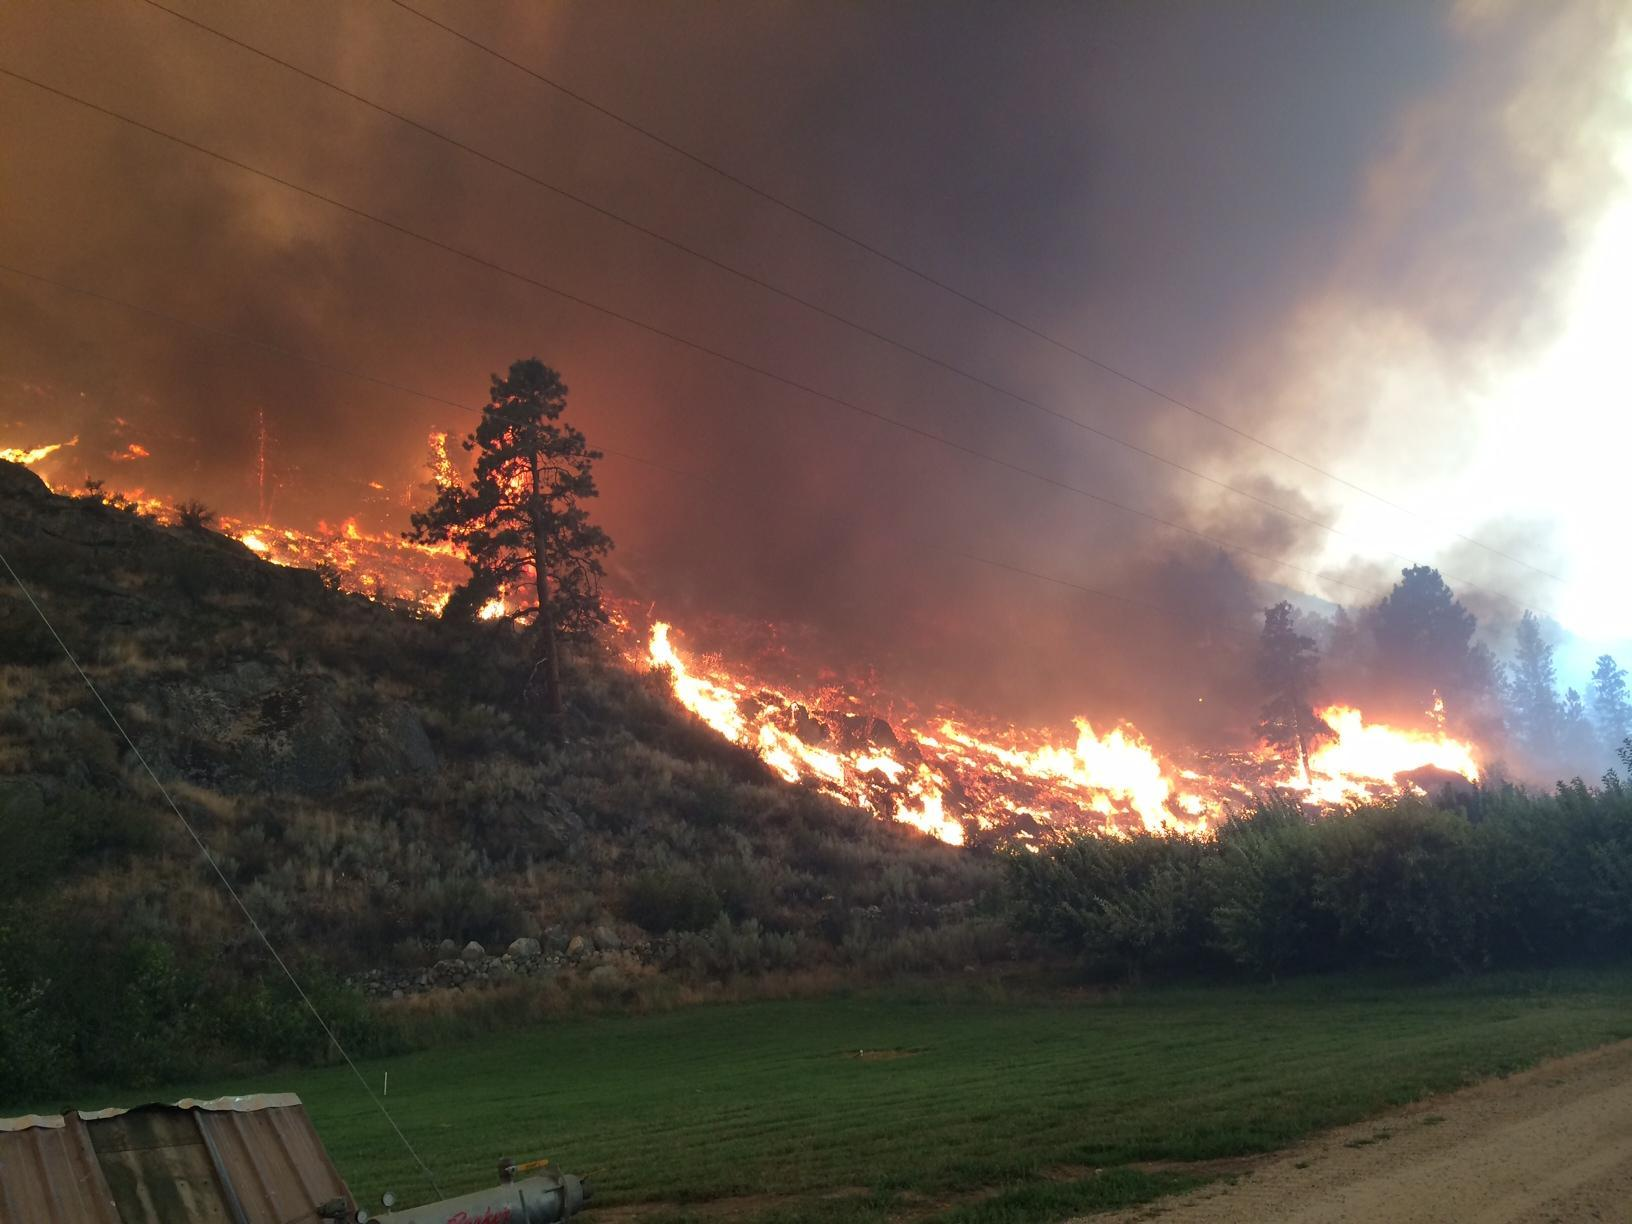fire: (626, 588, 1503, 909), (0, 393, 511, 638)
